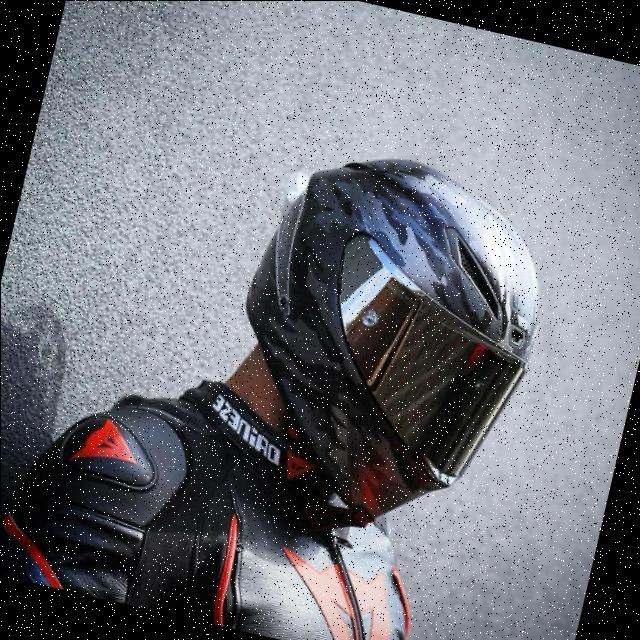Helm: (202, 124, 576, 546)
